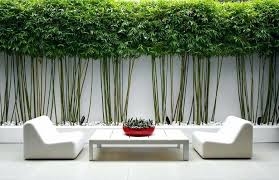bamboo: (59, 1, 277, 120), (1, 5, 50, 117)
